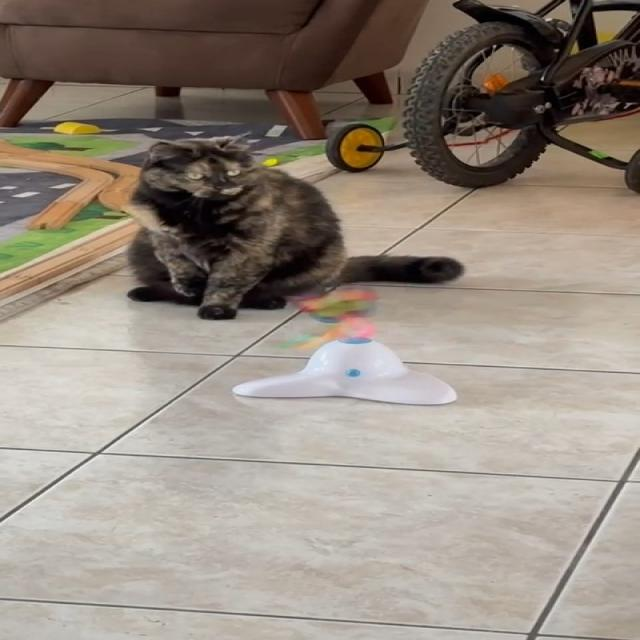authorized: (123, 131, 464, 320)
